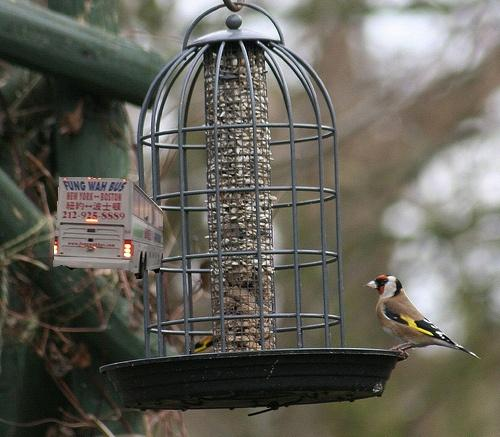tampered: (54, 178, 163, 279)
